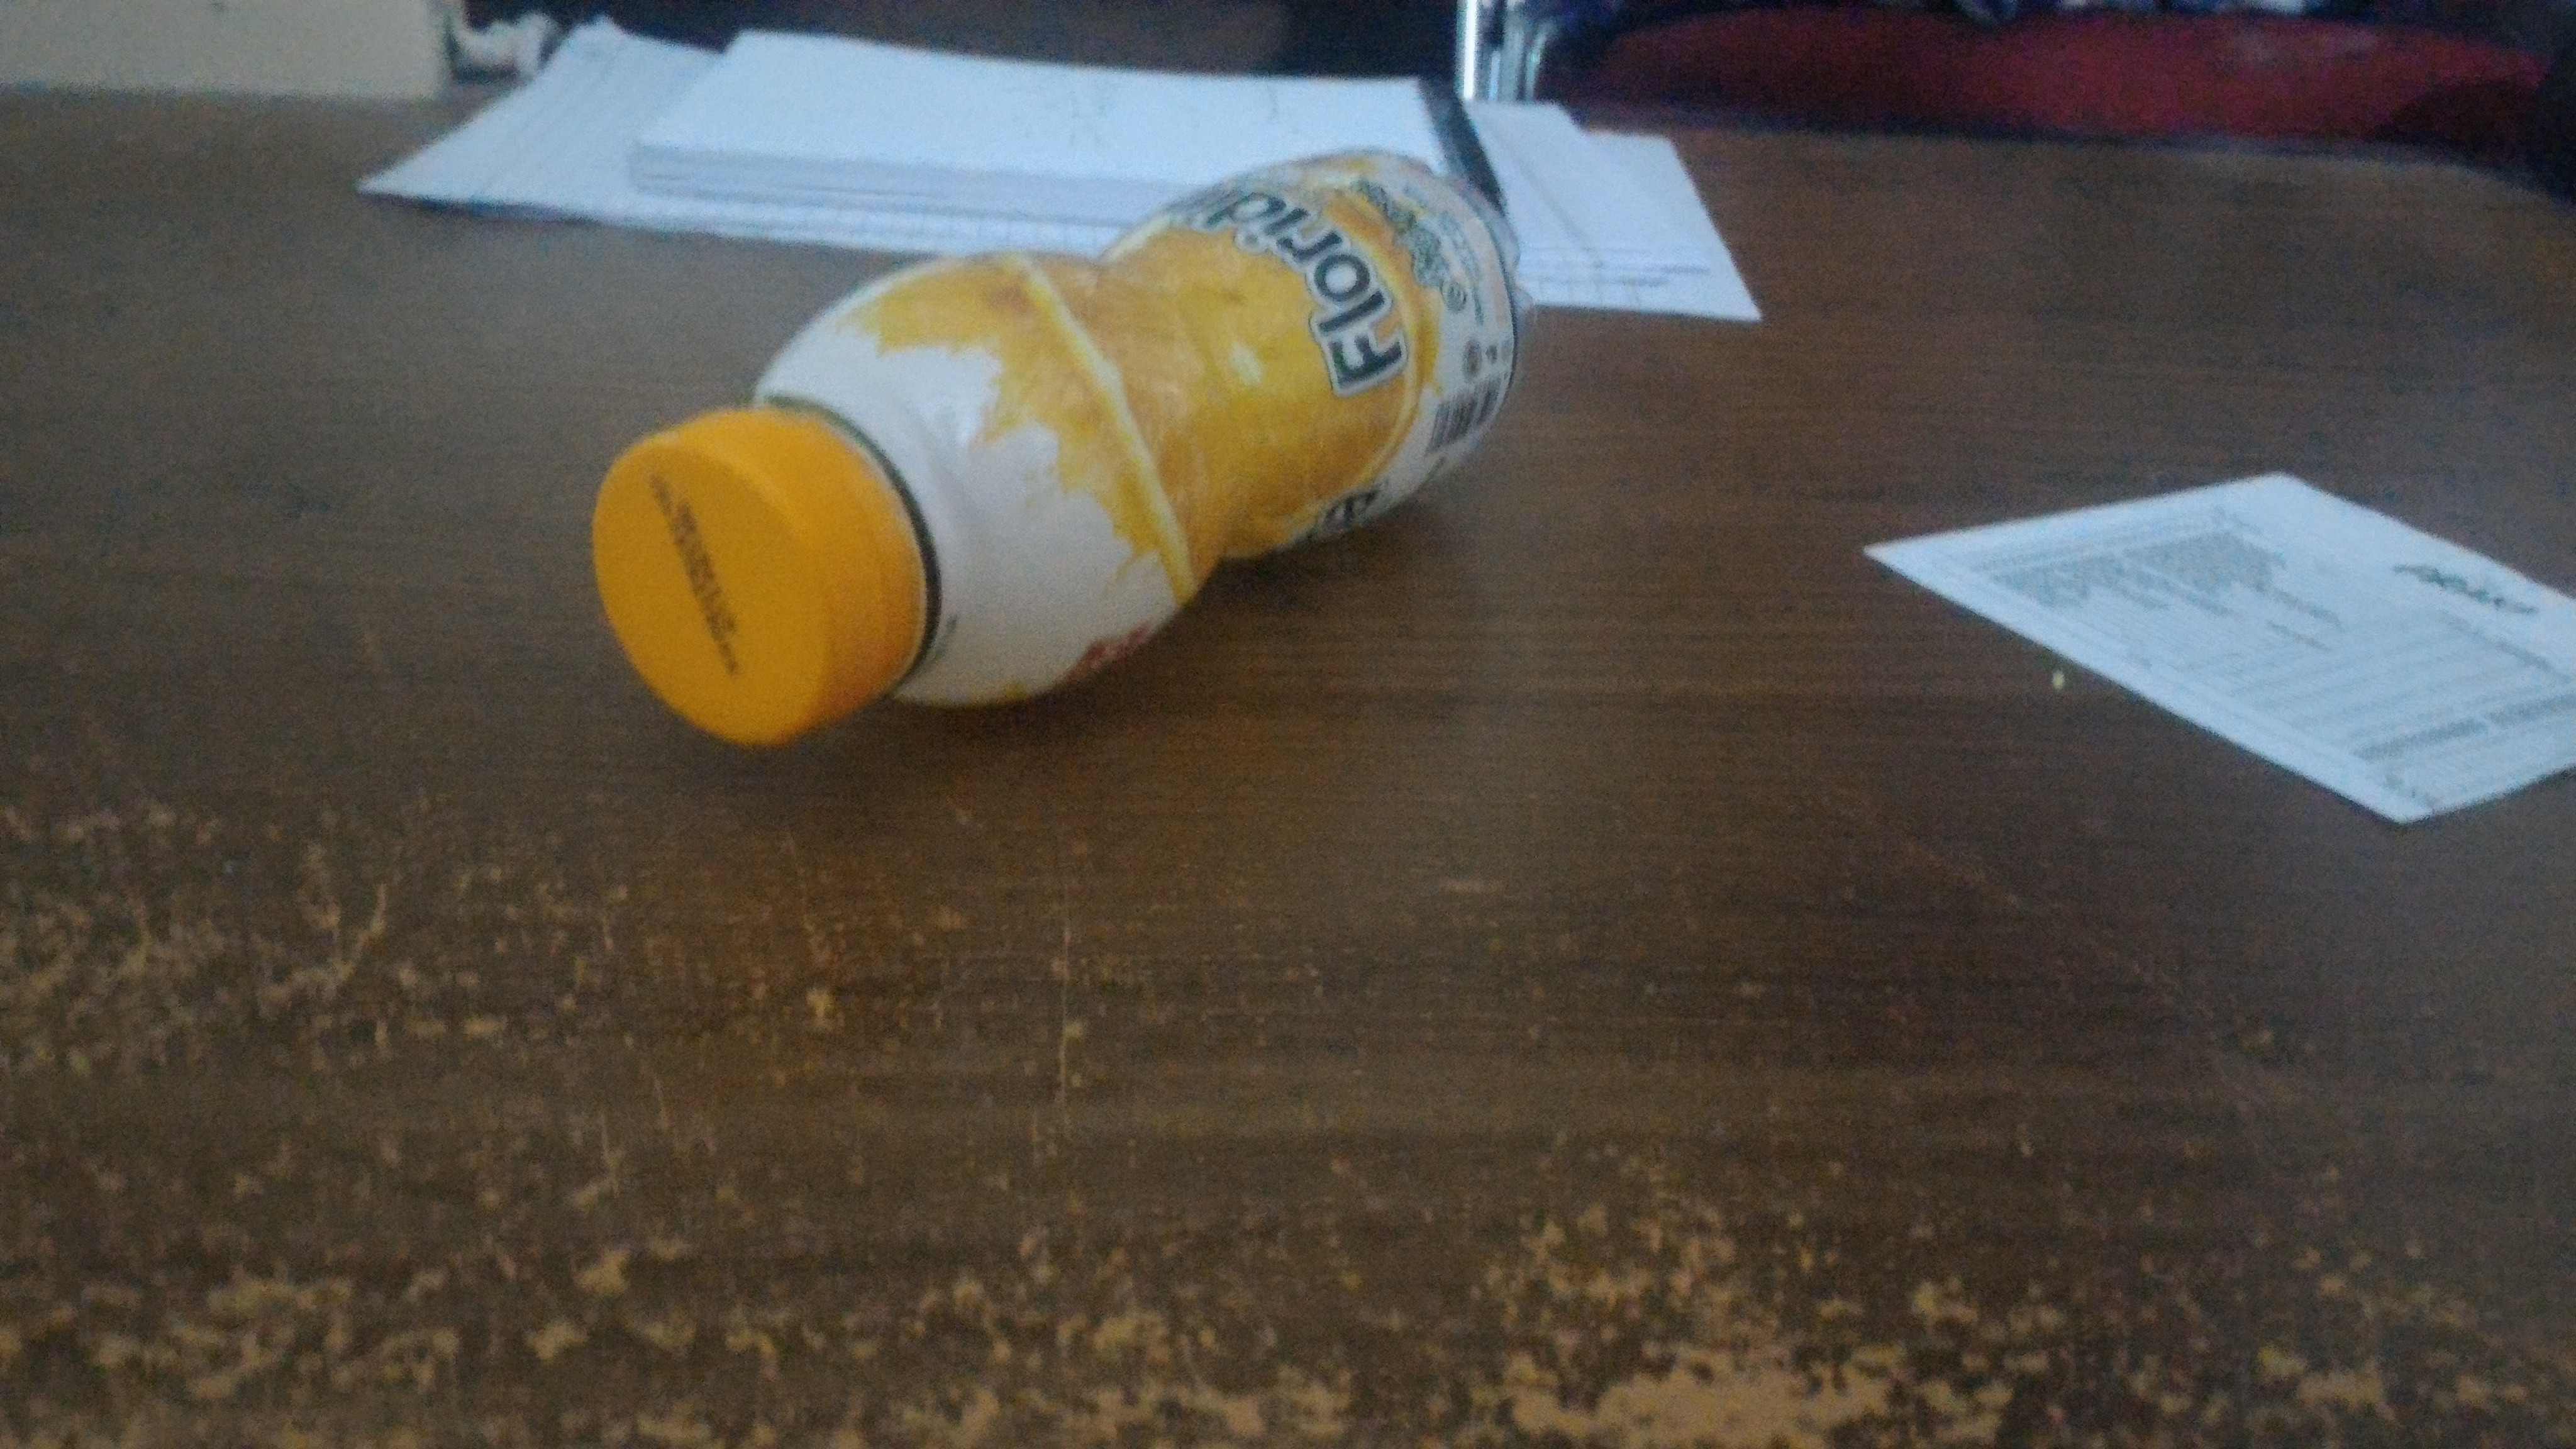botol: (587, 152, 1537, 747), (587, 152, 1422, 747), (633, 152, 1422, 747)
